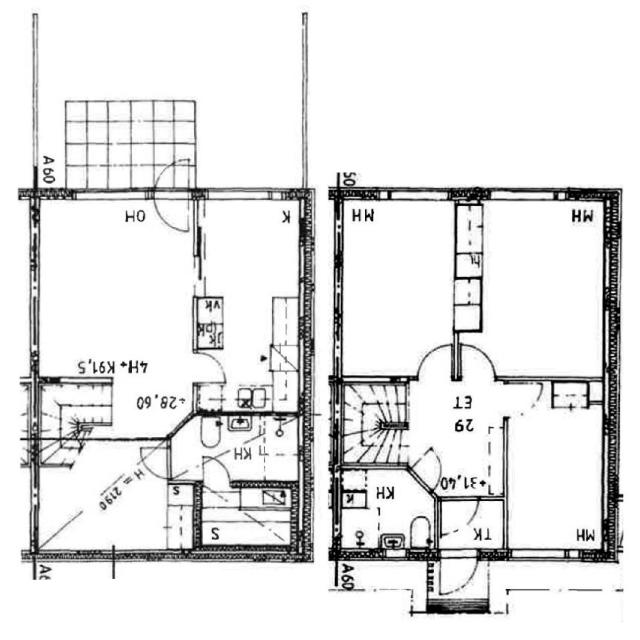door: (414, 340, 456, 385), (153, 192, 196, 235), (439, 548, 479, 594), (458, 340, 498, 381), (135, 440, 174, 480), (190, 348, 229, 387), (201, 453, 236, 492), (153, 161, 179, 193), (570, 404, 586, 422)
window: (204, 183, 282, 205), (71, 187, 151, 206), (508, 545, 575, 566), (24, 287, 45, 354), (491, 188, 556, 205), (27, 478, 43, 538)
zone: (35, 202, 201, 414), (466, 200, 610, 380), (336, 196, 460, 382), (195, 195, 301, 408), (33, 437, 184, 557), (504, 403, 605, 554), (415, 385, 507, 495), (337, 466, 436, 556), (187, 412, 302, 485), (198, 483, 298, 552), (339, 381, 408, 456), (436, 496, 506, 552), (550, 379, 602, 410)
